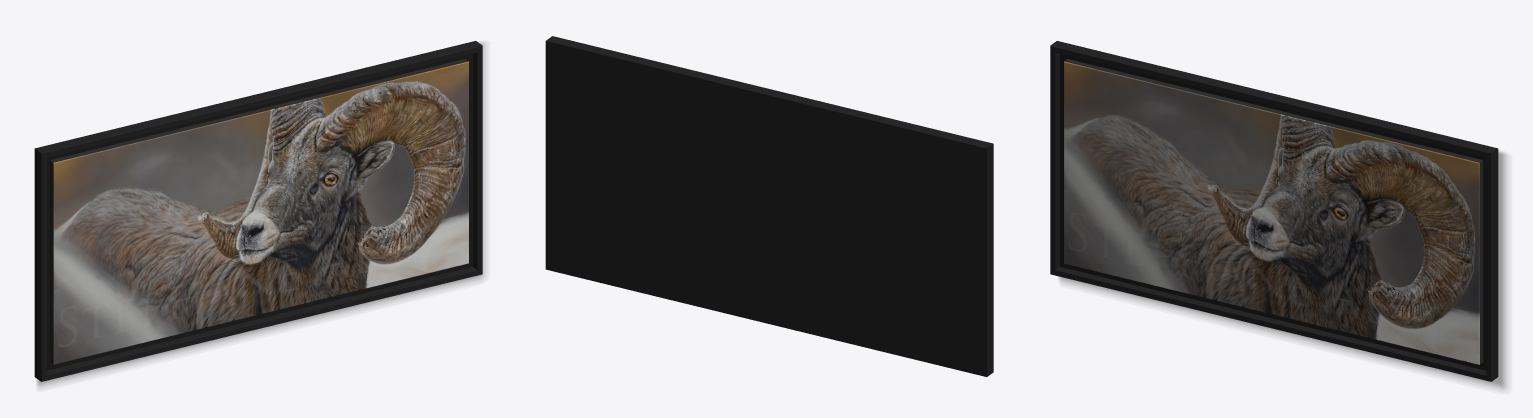
The model's file is tableau-mouflon-canada-grand-97c9c6dc.glb.
3 views of the same model, side by side, from view 1: azimuth 30°, elevation 25°; view 2: azimuth 150°, elevation 25°; view 3: azimuth 330°, elevation 25° (orthographic).
Visible parts, largest first — view 1: Painting; view 2: Painting; view 3: Painting.
Boxes of the visible parts, <box> form: Painting: <box>34,41,484,386</box>; Painting: <box>545,36,993,376</box>; Painting: <box>1050,41,1506,389</box>.
Size of the model in its own units: 1.63 by 0.876 by 0.04.
5 materials, 3 textured.
